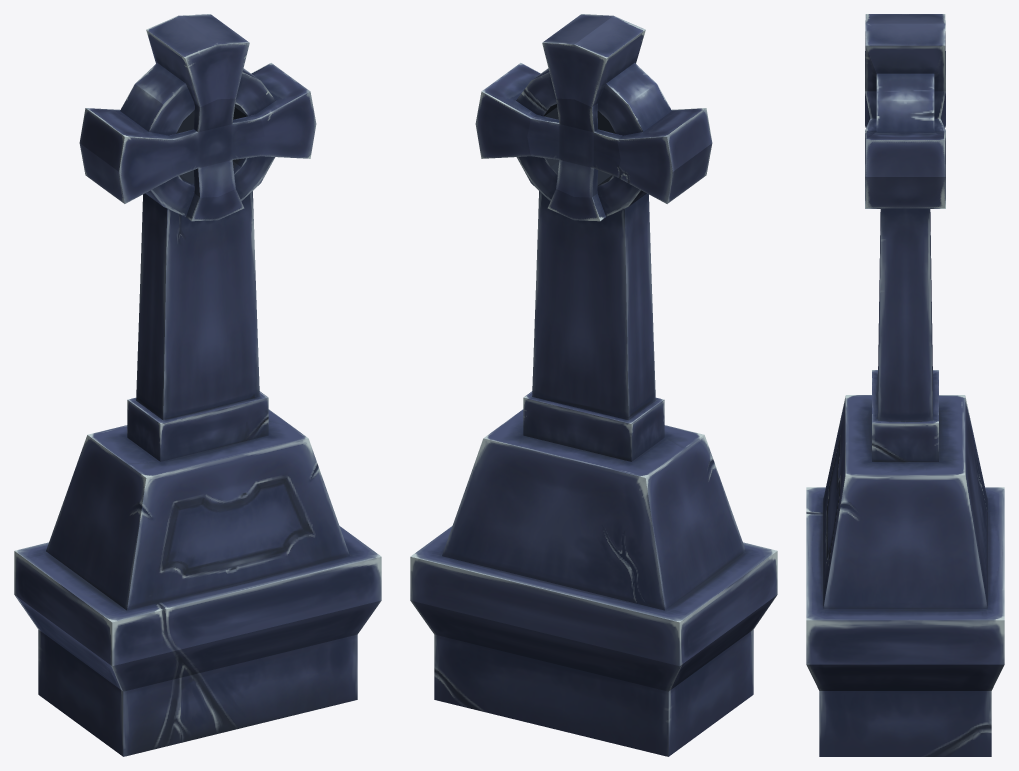
File: gravestone1_5.fbx
3 views of the same model, side by side, from view 1: azimuth 30°, elevation 25°; view 2: azimuth 150°, elevation 25°; view 3: azimuth 270°, elevation 25° (orthographic).
Visible parts, largest first — view 1: Cylinder; view 2: Cylinder; view 3: Cylinder.
Boxes of the visible parts, x1=… form: Cylinder: x1=14, y1=14, x2=381, y2=756; Cylinder: x1=410, y1=14, x2=777, y2=756; Cylinder: x1=806, y1=14, x2=1004, y2=756.
Bounding box in the file's own units: 270 × 639 × 170.
